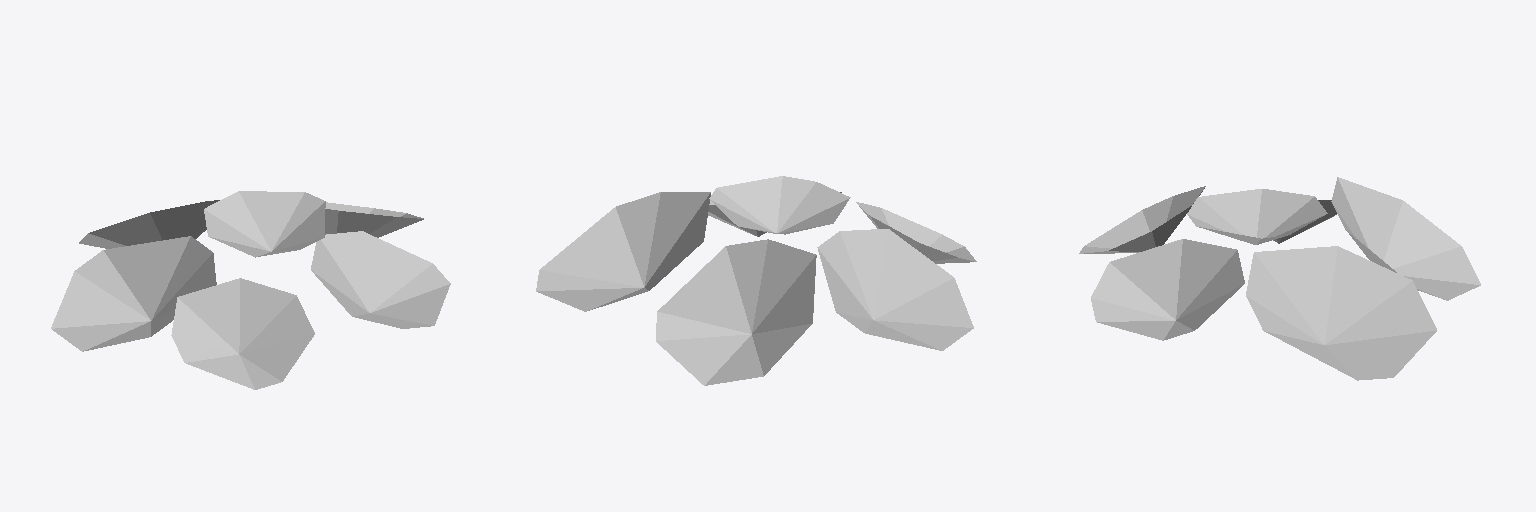
File: Plant_7.obj
The picture shows the model from 3 angles: view 1: azimuth 30°, elevation 25°; view 2: azimuth 150°, elevation 25°; view 3: azimuth 270°, elevation 25°; orthographic projection.
Parts seen in each view (by area): view 1: Plant_7; view 2: Plant_7; view 3: Plant_7.
Part boxes in pixels (x1,y1,x2,y2): Plant_7: (51, 191, 450, 389); Plant_7: (536, 176, 976, 385); Plant_7: (1079, 177, 1480, 380).
Bounding box in the file's own units: 1.05 × 0.2495 × 0.9621.